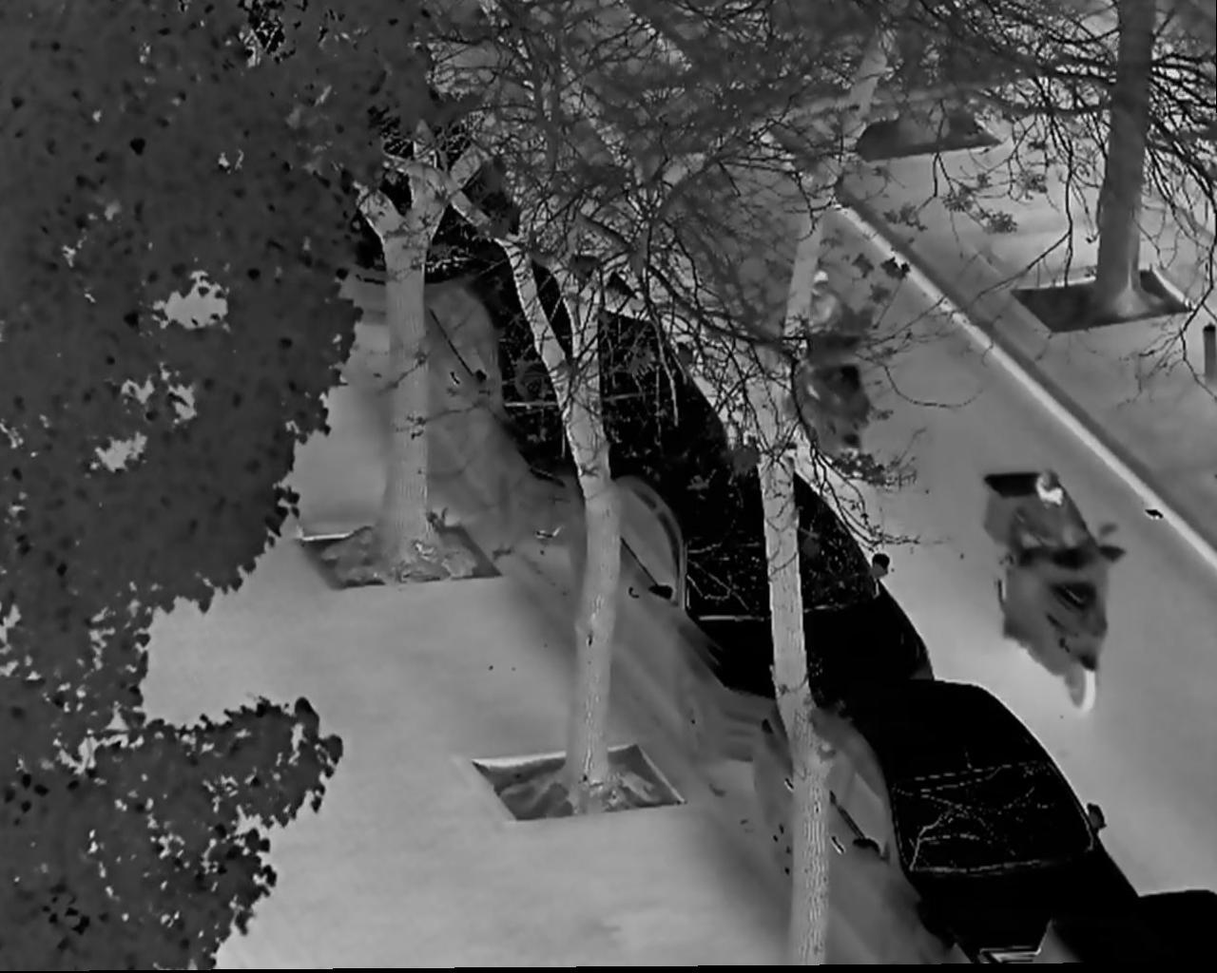person: (1014, 472, 1095, 641), (792, 272, 858, 415)
